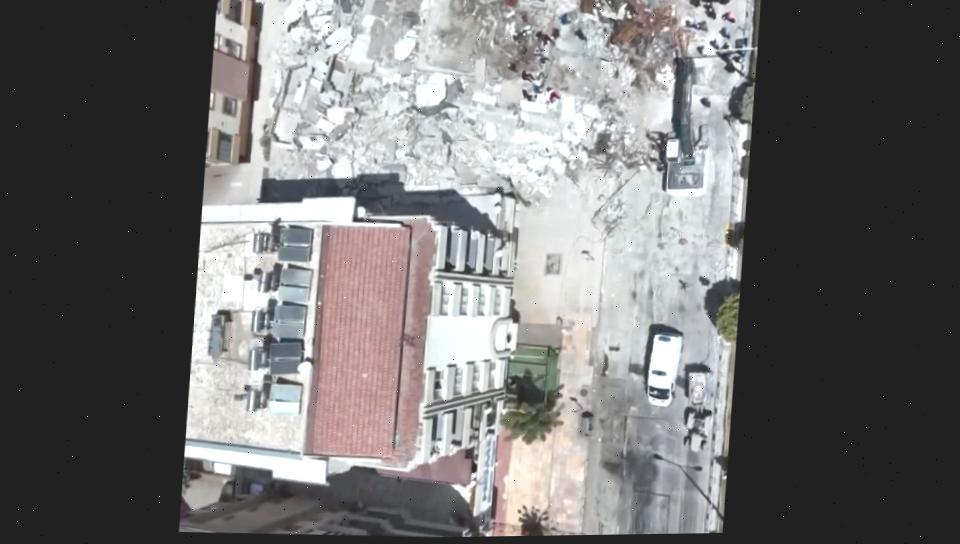kapali: (608, 0, 758, 201)
